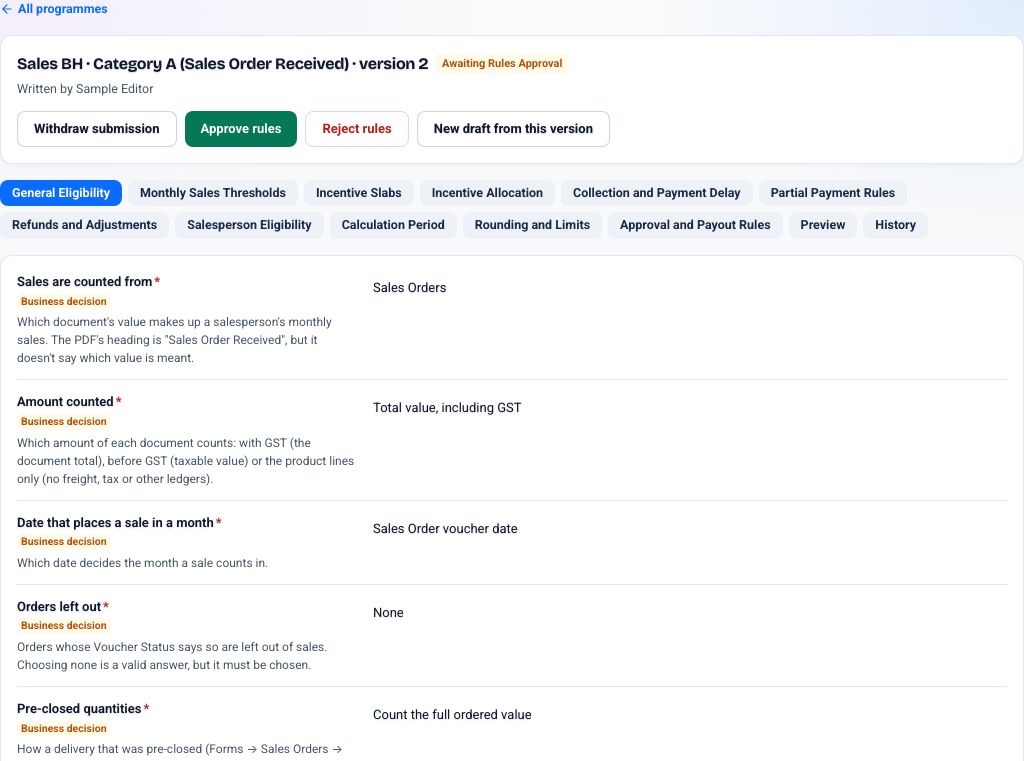
Scenario: the version editor › someone who wrote the version can't approve or reject it; someone else approves with a note or rejects with a reason
Later steps or results of the test are not shown.
Click the button "Reject rules": click(357, 128) [305,110,409,146]
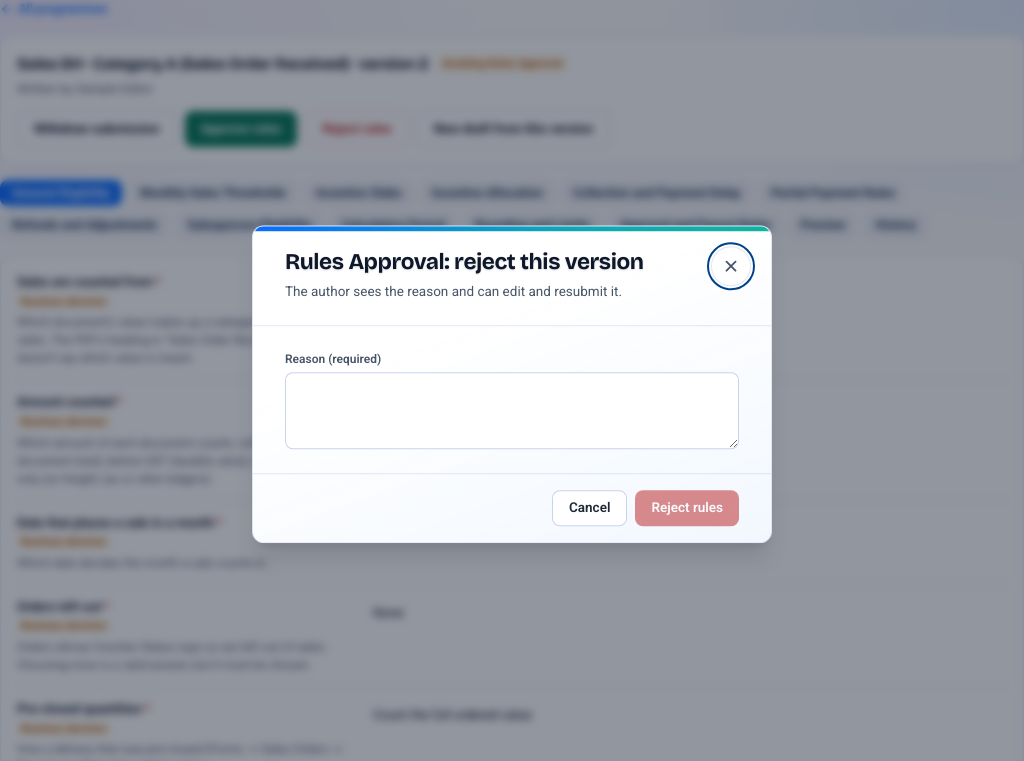
Expected: the button "Reject rules" is disabled, [635,490,739,526]
